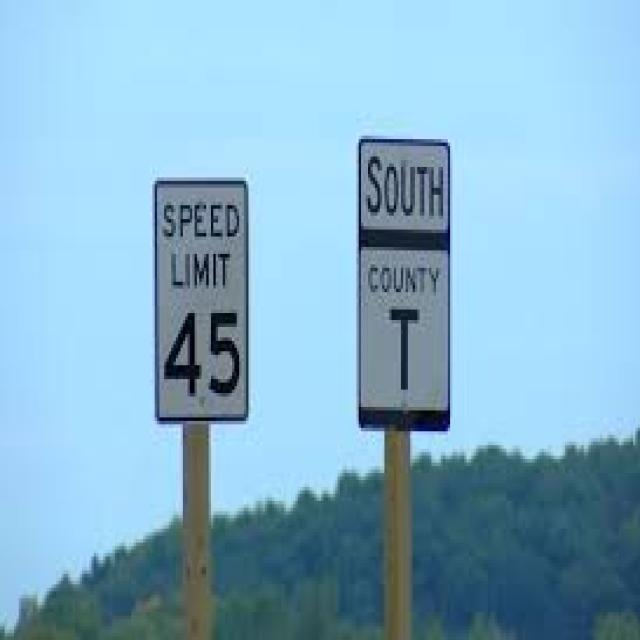speedLimit45: (151, 163, 252, 424)
